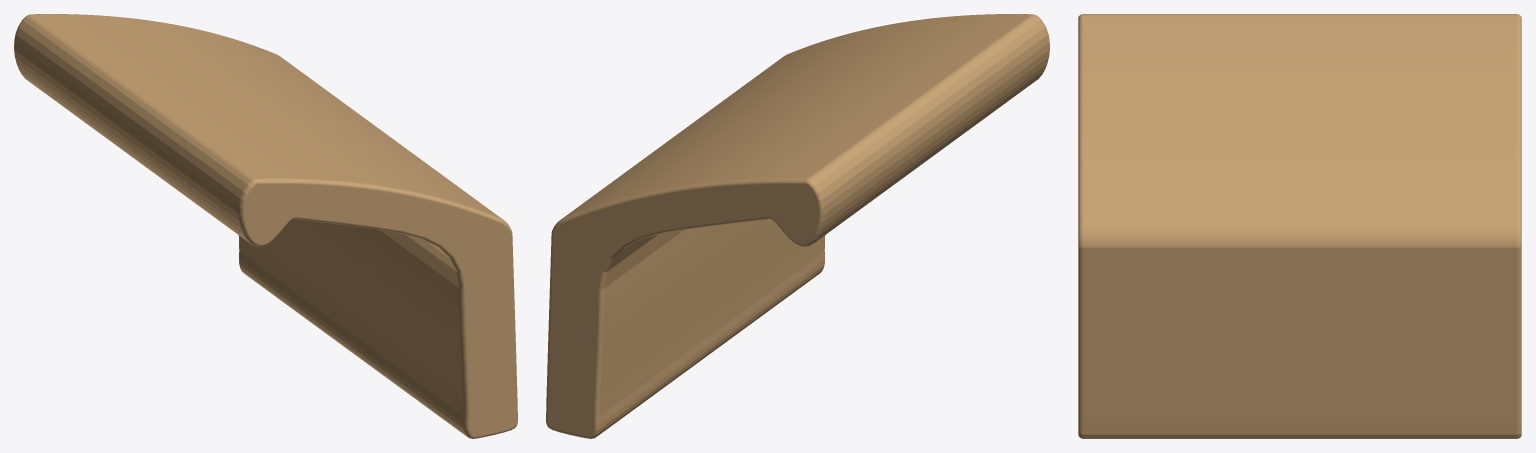
File: original-9.obj
3 renders of one model, left to right at view 1: azimuth 30°, elevation 25°; view 2: azimuth 150°, elevation 25°; view 3: azimuth 270°, elevation 25°, orthographic. The views are drawn at different scales.
Parts seen in each view (by area): view 1: group_6/ID65#ID65; view 2: group_6/ID65#ID65; view 3: group_6/ID65#ID65.
Part boxes in pixels (box(x1,y1,x2,y2)): group_6/ID65#ID65: box(14, 14, 517, 438); group_6/ID65#ID65: box(546, 14, 1049, 438); group_6/ID65#ID65: box(1078, 14, 1521, 438).
Size of the model in its own units: 0.1944 by 0.2093 by 0.2769.
